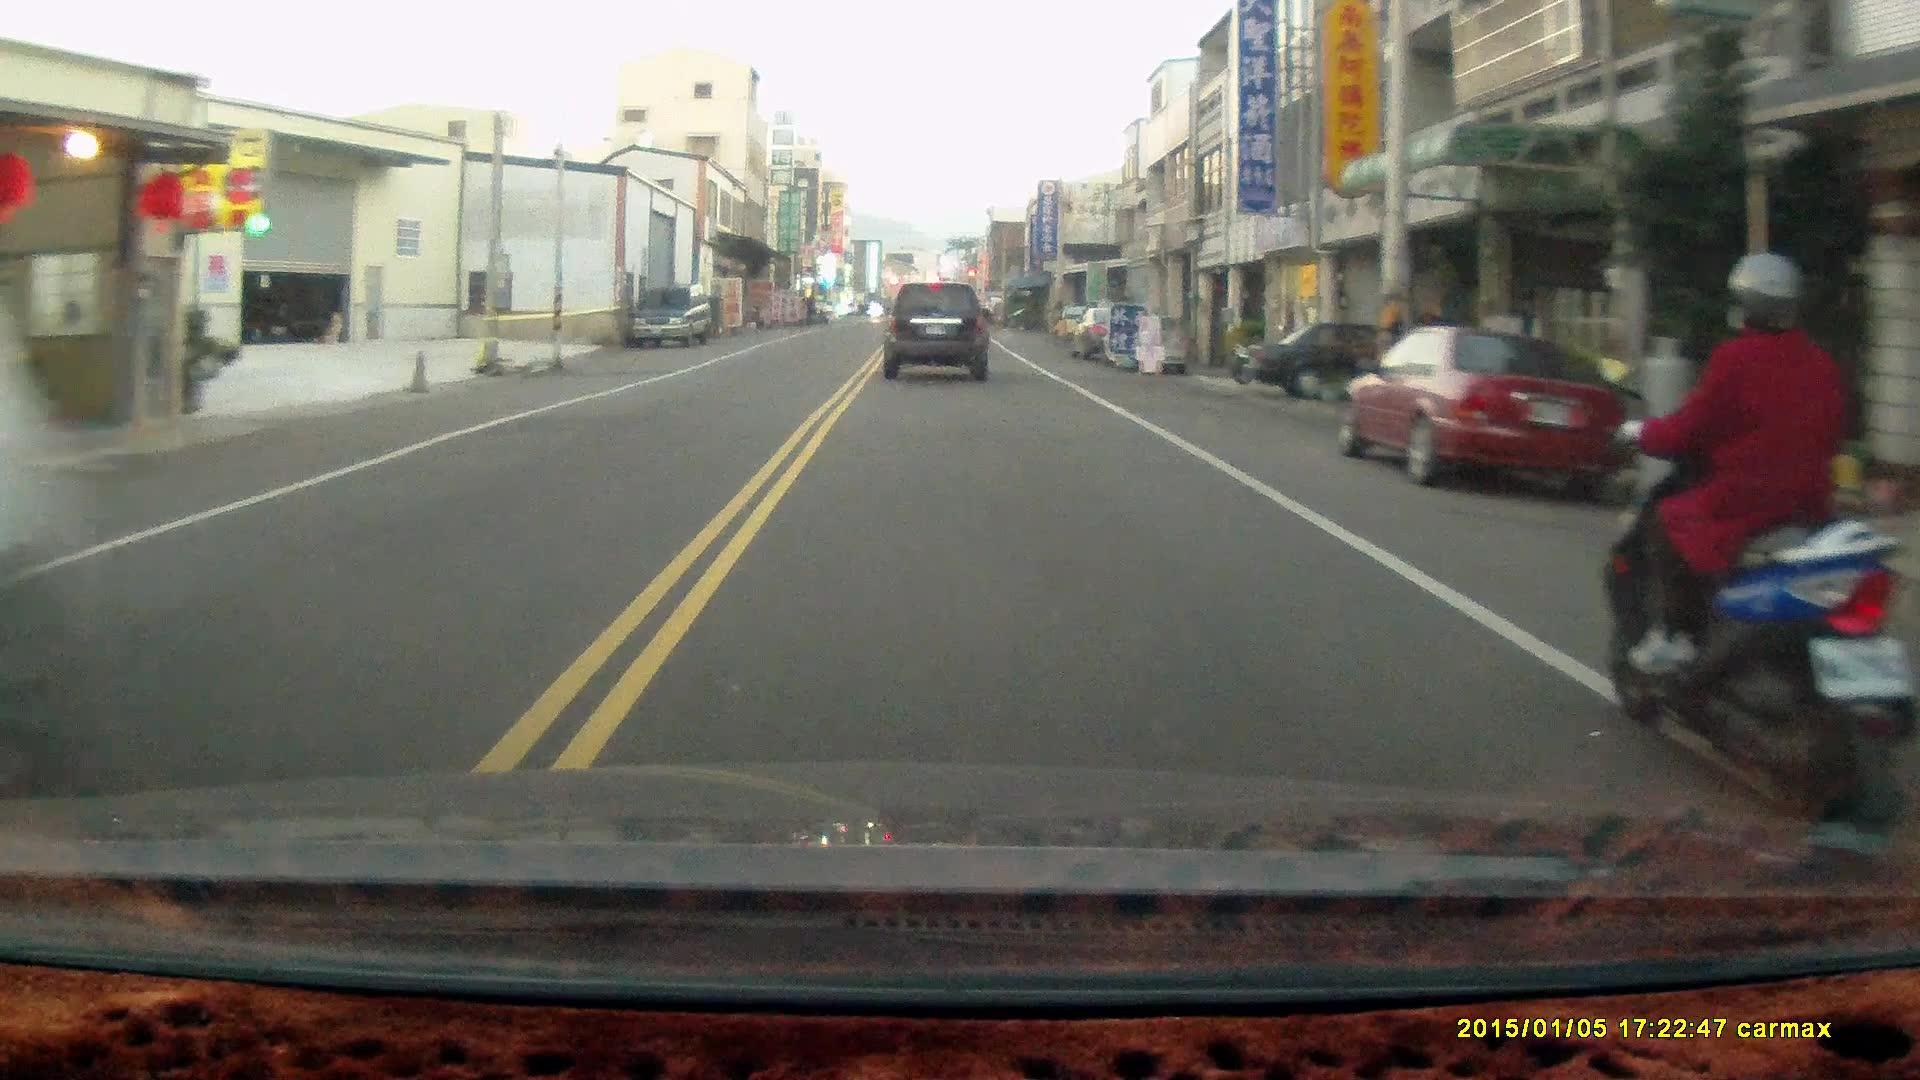rider: (1599, 249, 1913, 834)
vehicle: (1345, 319, 1646, 504), (1237, 316, 1463, 403), (884, 280, 993, 384), (623, 285, 719, 348)
